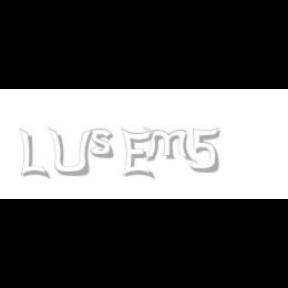5: (190, 128, 220, 174)
E: (120, 128, 153, 180)
L: (19, 128, 47, 180)
U: (48, 128, 92, 178)
m: (142, 128, 194, 162)
s: (90, 128, 118, 160)
